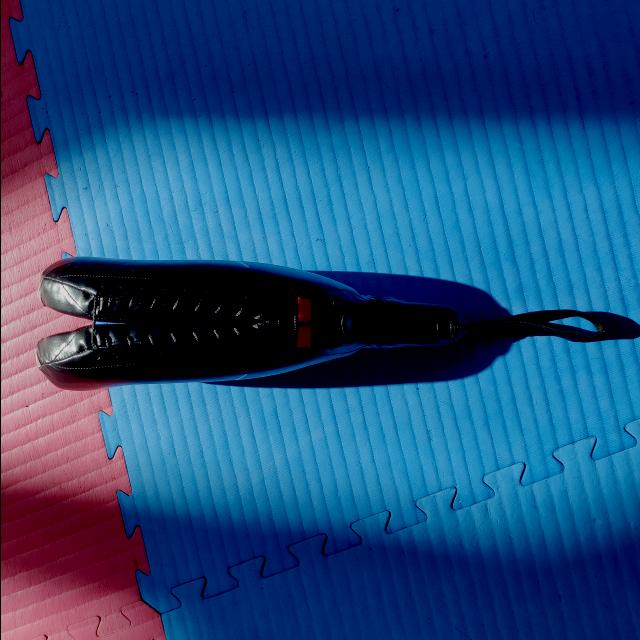paddle: (33, 254, 467, 396)
